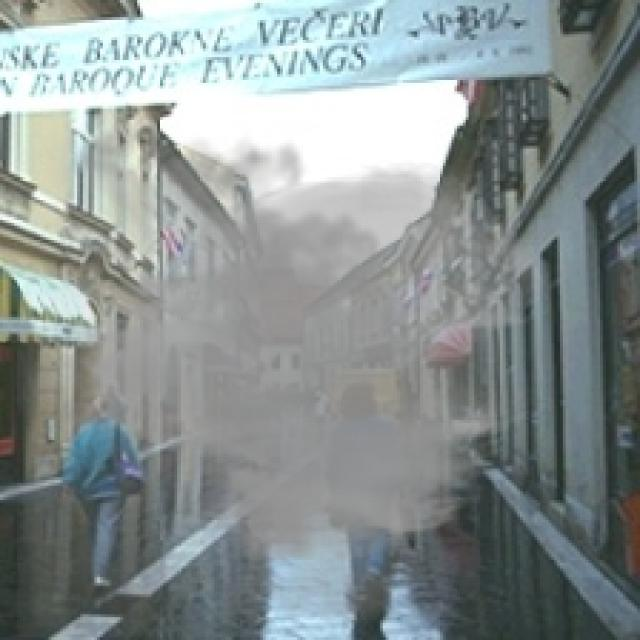smoke: (17, 106, 549, 637)
